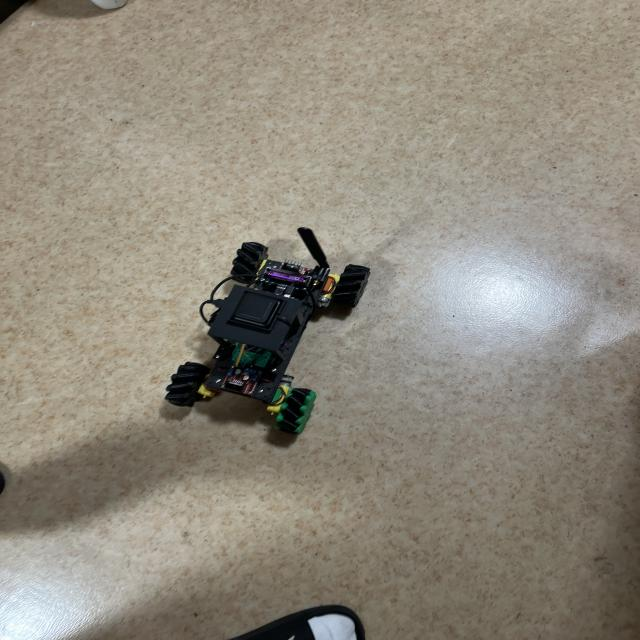robot: (165, 227, 370, 434)
